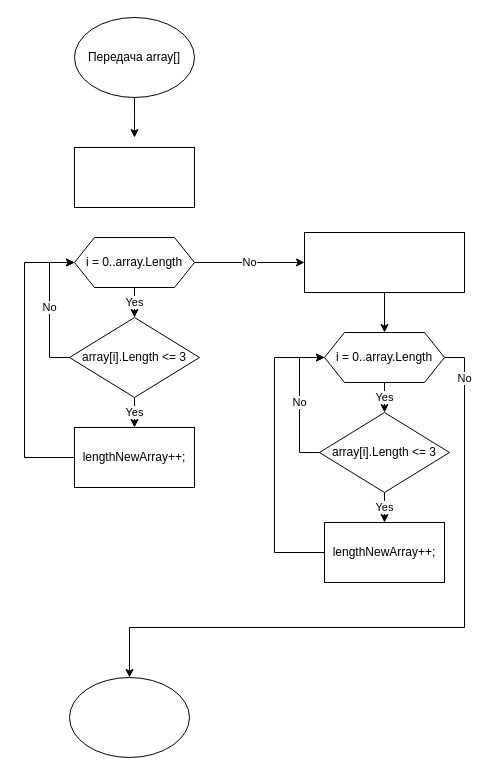
The diagram is 490 pixels wide and 775 high, and some of its shapes have lost their labels. The centre of each missing label's shape, as x and y in pixels:
"index = 0; lengthNewArray = 0;" goes at pixel 134 177.
"newArray[lengthNewArray]" goes at pixel 384 262.
"Передача newArray[]" goes at pixel 129 717.
